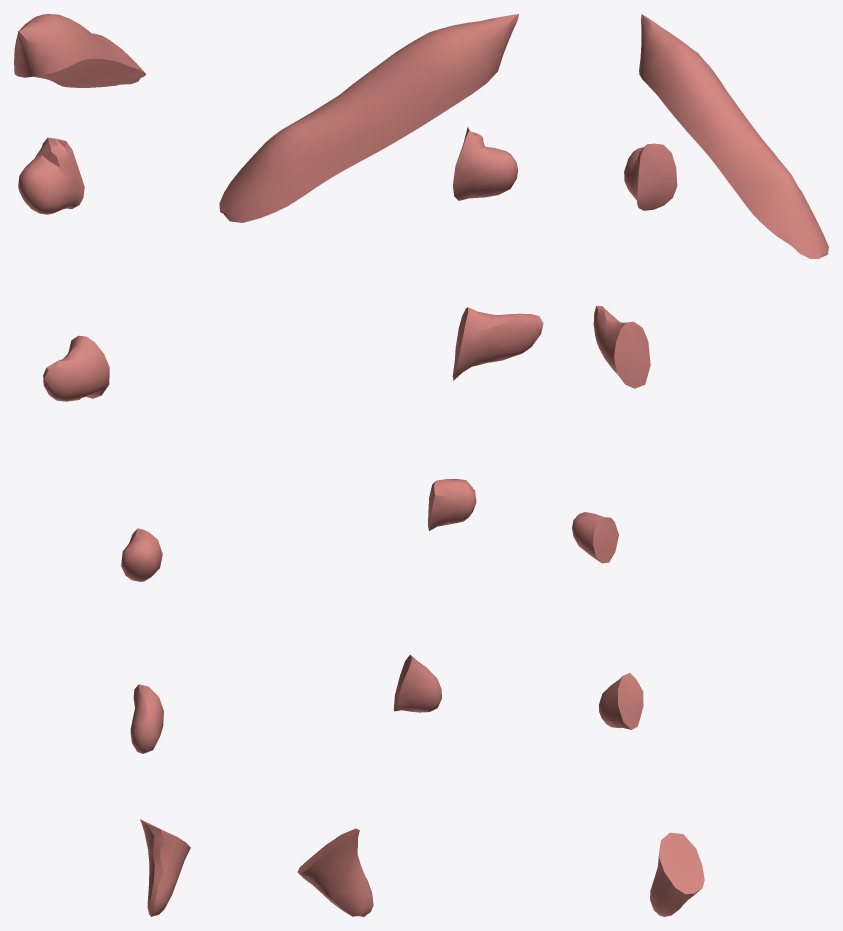
File: fma49312-f_mm4020.glb
3 renders of one model, left to right at view 1: azimuth 30°, elevation 25°; view 2: azimuth 150°, elevation 25°; view 3: azimuth 270°, elevation 25°, orthographic. The views are drawn at different scales.
Parts seen in each view (by area): view 1: FMA49312-F_MM4020; view 2: FMA49312-F_MM4020; view 3: FMA49312-F_MM4020.
Part boxes in pixels (x1,y1,x2,y2): FMA49312-F_MM4020: (14,14,190,916); FMA49312-F_MM4020: (219,14,543,916); FMA49312-F_MM4020: (572,14,828,916).
Size of the model in its own units: 0.0318 by 0.136 by 0.0379.
